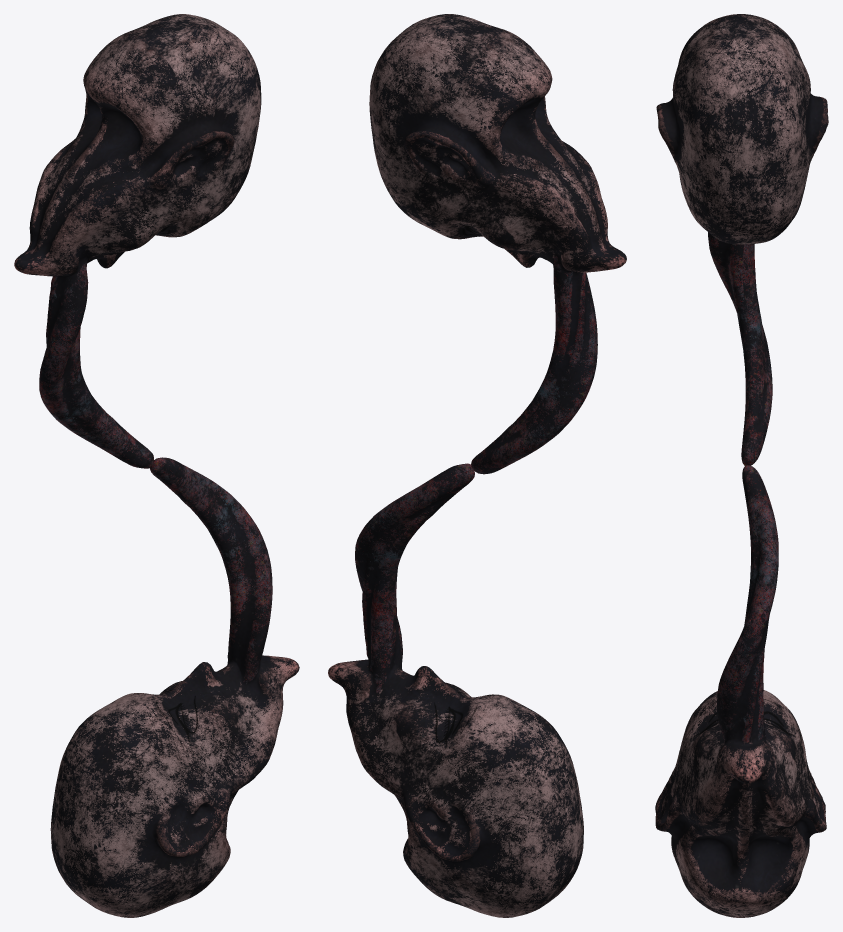
3 views of the same model, side by side, from view 1: azimuth 30°, elevation 25°; view 2: azimuth 150°, elevation 25°; view 3: azimuth 270°, elevation 25° (orthographic).
Parts seen in each view (by area): view 1: PolySphere.001, PolySphere; view 2: PolySphere, PolySphere.001; view 3: PolySphere, PolySphere.001.
Part boxes in pixels (x1,y1,x2,y2): PolySphere.001: [50, 457, 299, 917]; PolySphere: [14, 14, 261, 468]; PolySphere: [369, 14, 626, 474]; PolySphere.001: [328, 463, 583, 917]; PolySphere: [656, 14, 828, 465]; PolySphere.001: [655, 465, 826, 917].
Bounding box in the file's own units: 3.35 × 9.65 × 1.7.
1 material, 1 textured.
